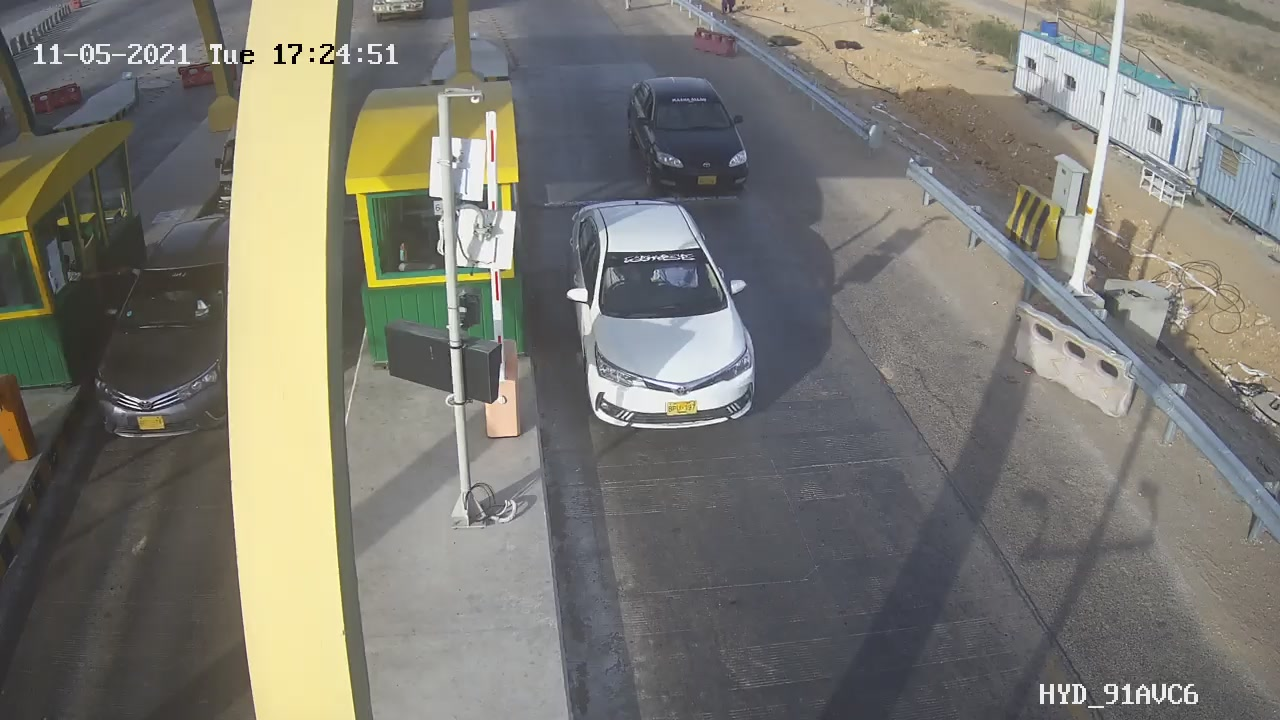F1: (548, 182, 787, 456), (611, 57, 768, 222)
